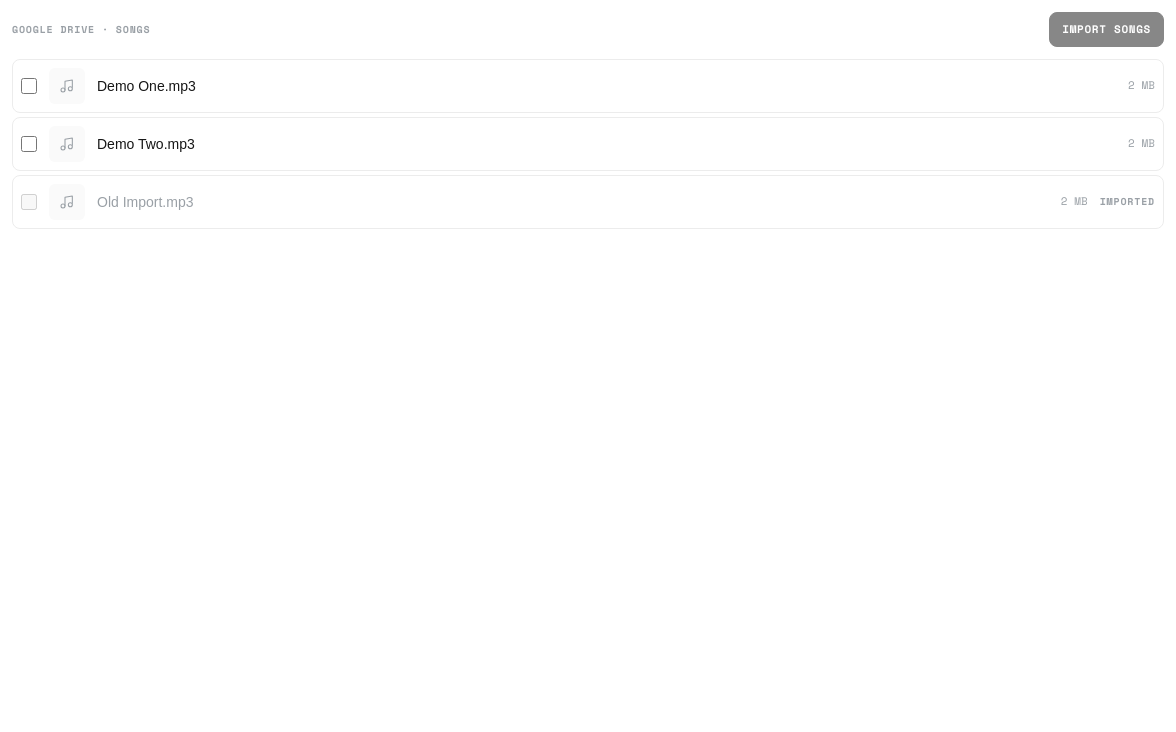
Test case: DriveBrowser › imports in list order, not the order the boxes were ticked
Click the checkbox named "Demo Two.mp3" at (29, 144), box [21,136,37,152]
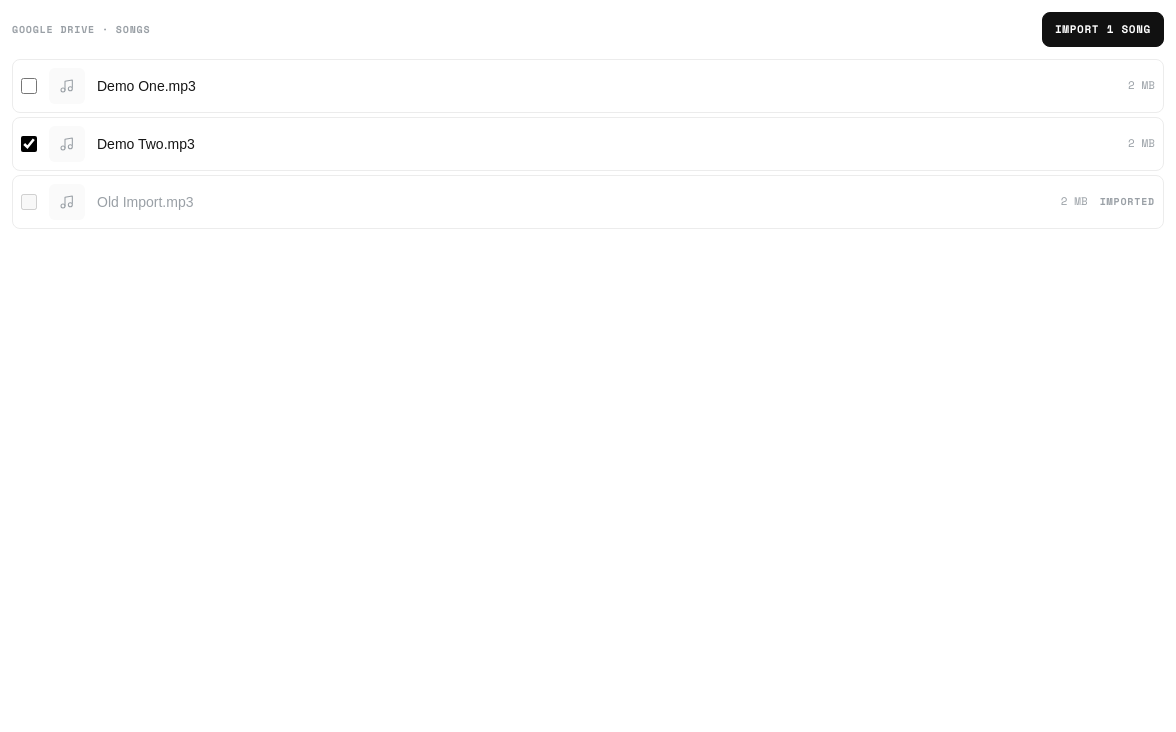
Click the checkbox named "Demo One.mp3" at (29, 86), box [21,78,37,94]
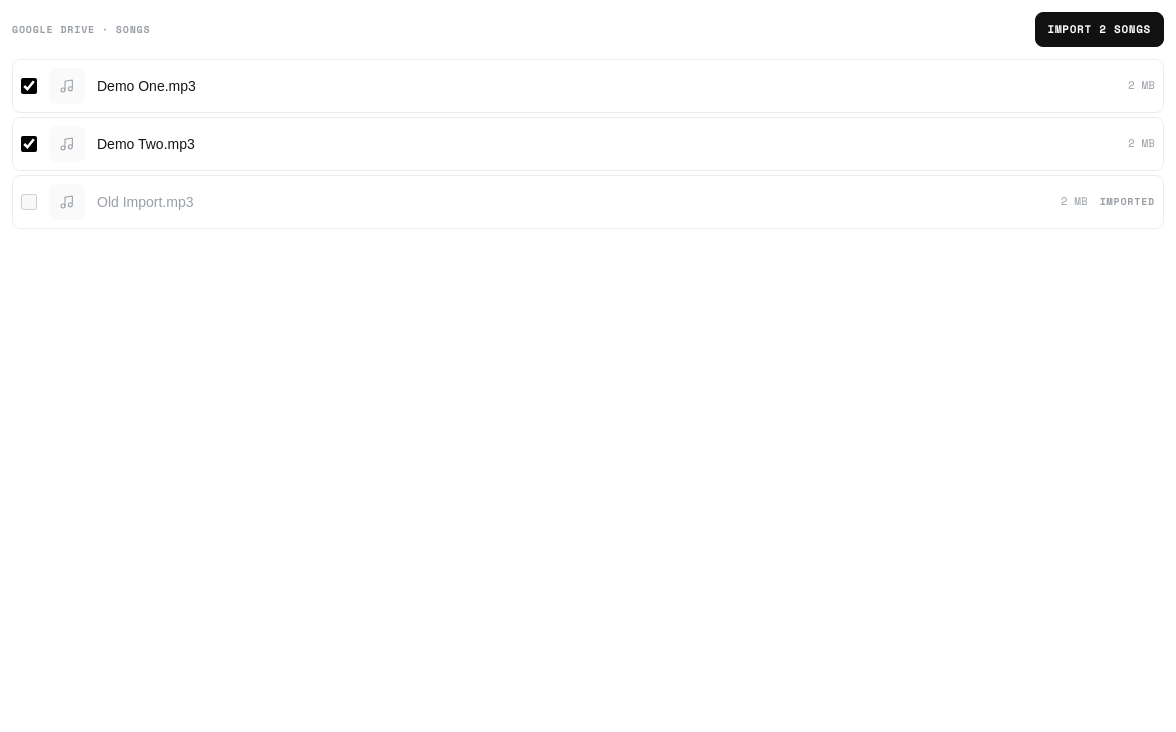
Click the button "Import 2 songs" at (1099, 29), box [1034,12,1164,46]
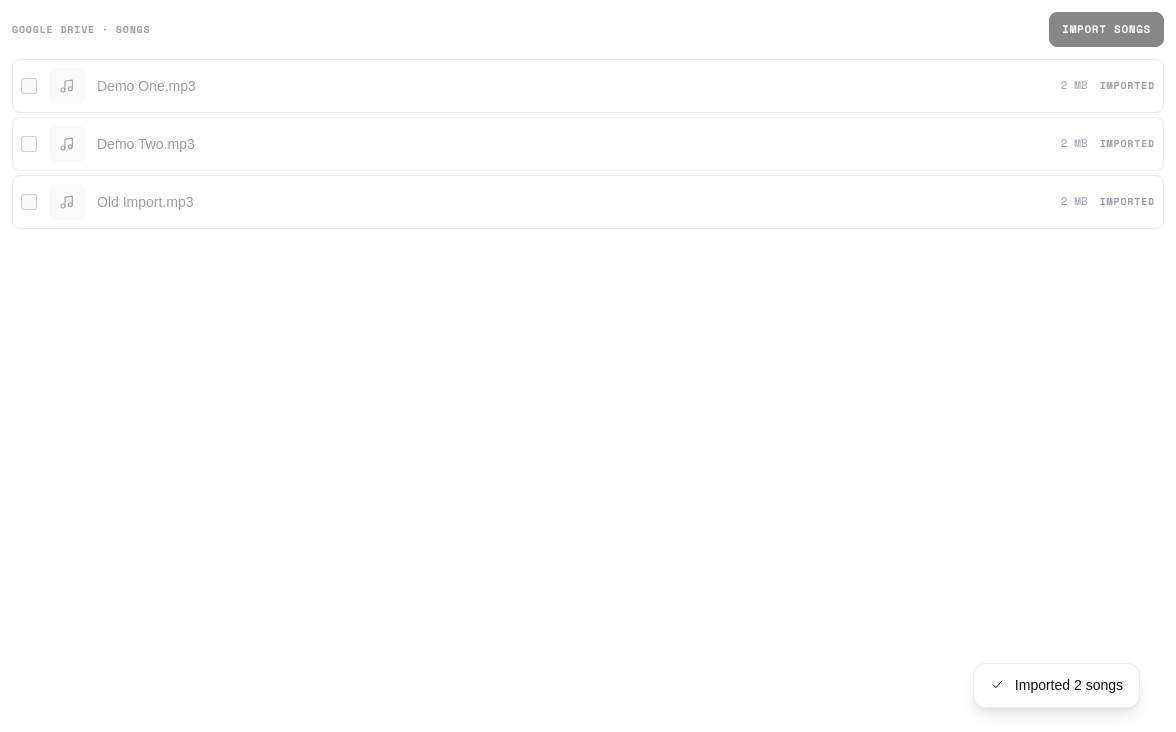
expect the text "Imported 2 songs" is shown: met, box [1015,676,1123,695]
